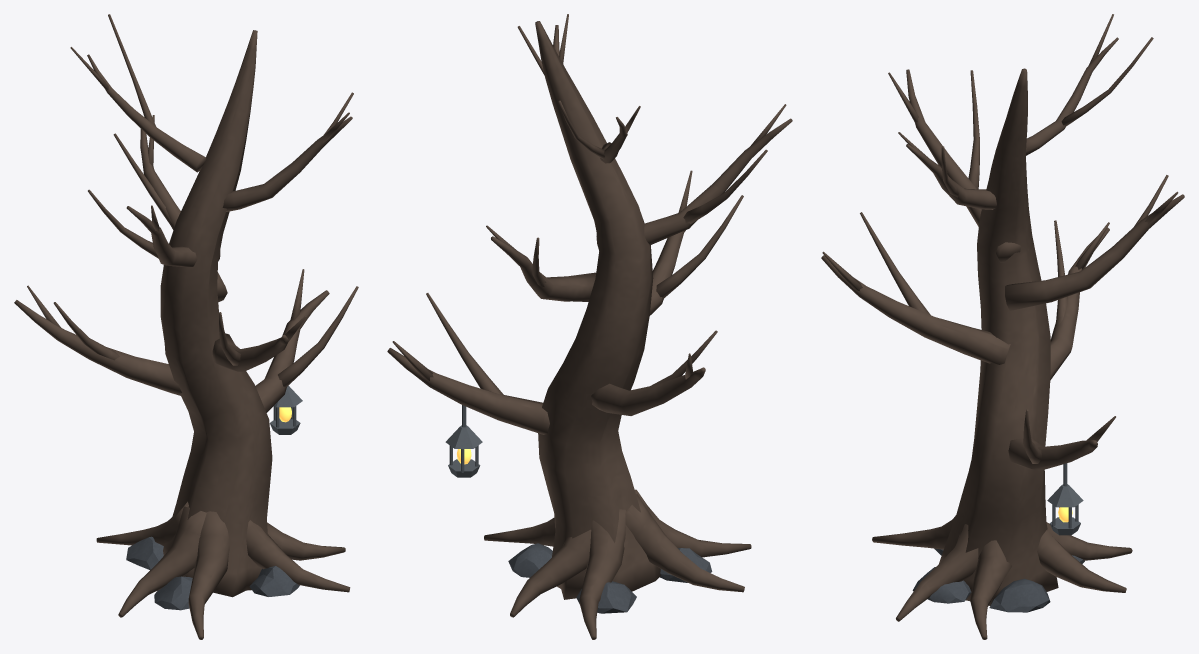
The model's file is scenery_dead_tree.glb.
3 views of the same model, side by side, from view 1: azimuth 30°, elevation 25°; view 2: azimuth 150°, elevation 25°; view 3: azimuth 270°, elevation 25° (orthographic). The views are drawn at different scales.
Visible parts, largest first — view 1: gnarled trunk, root stone 0, lantern chain; view 2: gnarled trunk, root stone 0, lantern chain; view 3: gnarled trunk, root stone 0, lantern chain.
Part boxes in pixels (box(x1,y1,x2,y2)): gnarled trunk: box(14, 14, 358, 639); root stone 0: box(126, 536, 299, 610); lantern chain: box(270, 386, 302, 434); gnarled trunk: box(387, 14, 792, 639); root stone 0: box(508, 543, 712, 613); lantern chain: box(445, 405, 482, 477); gnarled trunk: box(821, 14, 1184, 639); root stone 0: box(912, 548, 1084, 612); lantern chain: box(1047, 463, 1083, 535).
Bounding box in the file's own units: 2.19 × 3.6 × 2.19.
4 materials, 3 textured.
